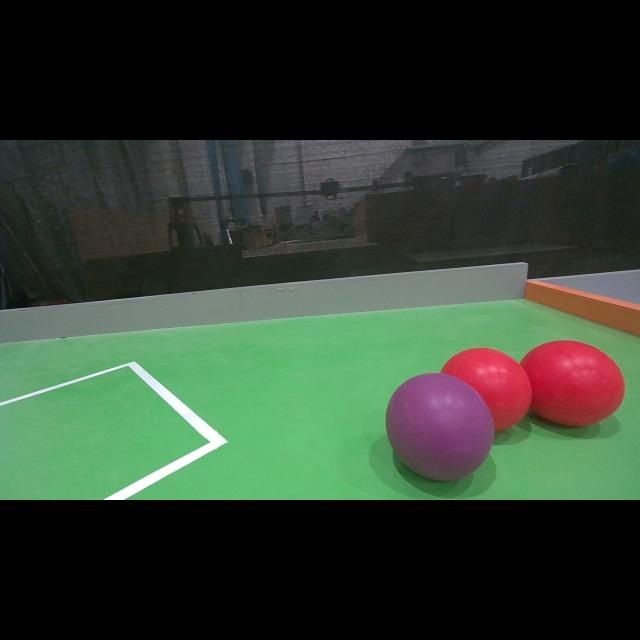P: (386, 372, 494, 482)
R: (520, 338, 626, 436), (440, 348, 532, 430)
